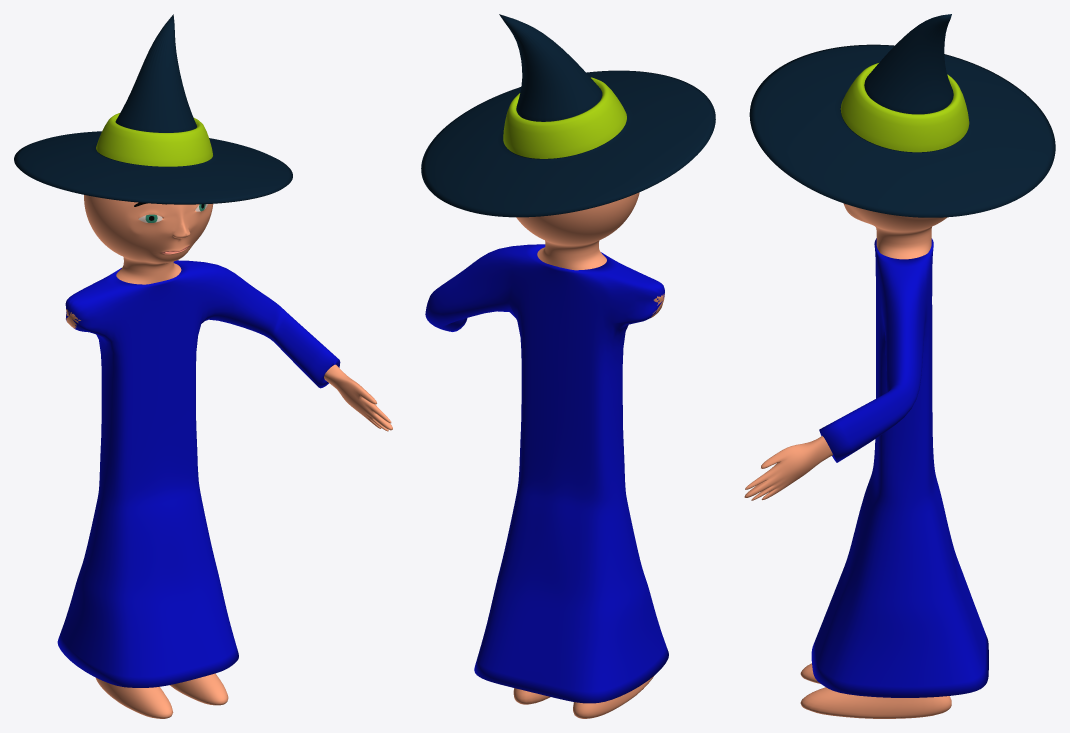
The model's file is newestWizard.obj.
The picture shows the model from 3 angles, left to right: view 1: azimuth 30°, elevation 25°; view 2: azimuth 150°, elevation 25°; view 3: azimuth 270°, elevation 25°; orthographic projection. The views are drawn at different scales.
Visible parts, largest first — view 1: Sphere.001_Sphere.002, Circle_Circle.002, Sphere_Sphere.001; view 2: Sphere.001_Sphere.002, Circle_Circle.002, Sphere_Sphere.001; view 3: Sphere.001_Sphere.002, Circle_Circle.002, Sphere_Sphere.001.
Part boxes in pixels (x1,y1,x2,y2): Sphere.001_Sphere.002: [57, 260, 340, 687]; Circle_Circle.002: [14, 14, 292, 204]; Sphere_Sphere.001: [66, 195, 392, 718]; Sphere.001_Sphere.002: [425, 244, 668, 703]; Circle_Circle.002: [421, 14, 715, 217]; Sphere_Sphere.001: [513, 192, 664, 718]; Sphere.001_Sphere.002: [811, 238, 988, 697]; Circle_Circle.002: [749, 14, 1055, 217]; Sphere_Sphere.001: [744, 203, 951, 718].
Bounding box in the file's own units: 9.95 × 21.2 × 8.43.
